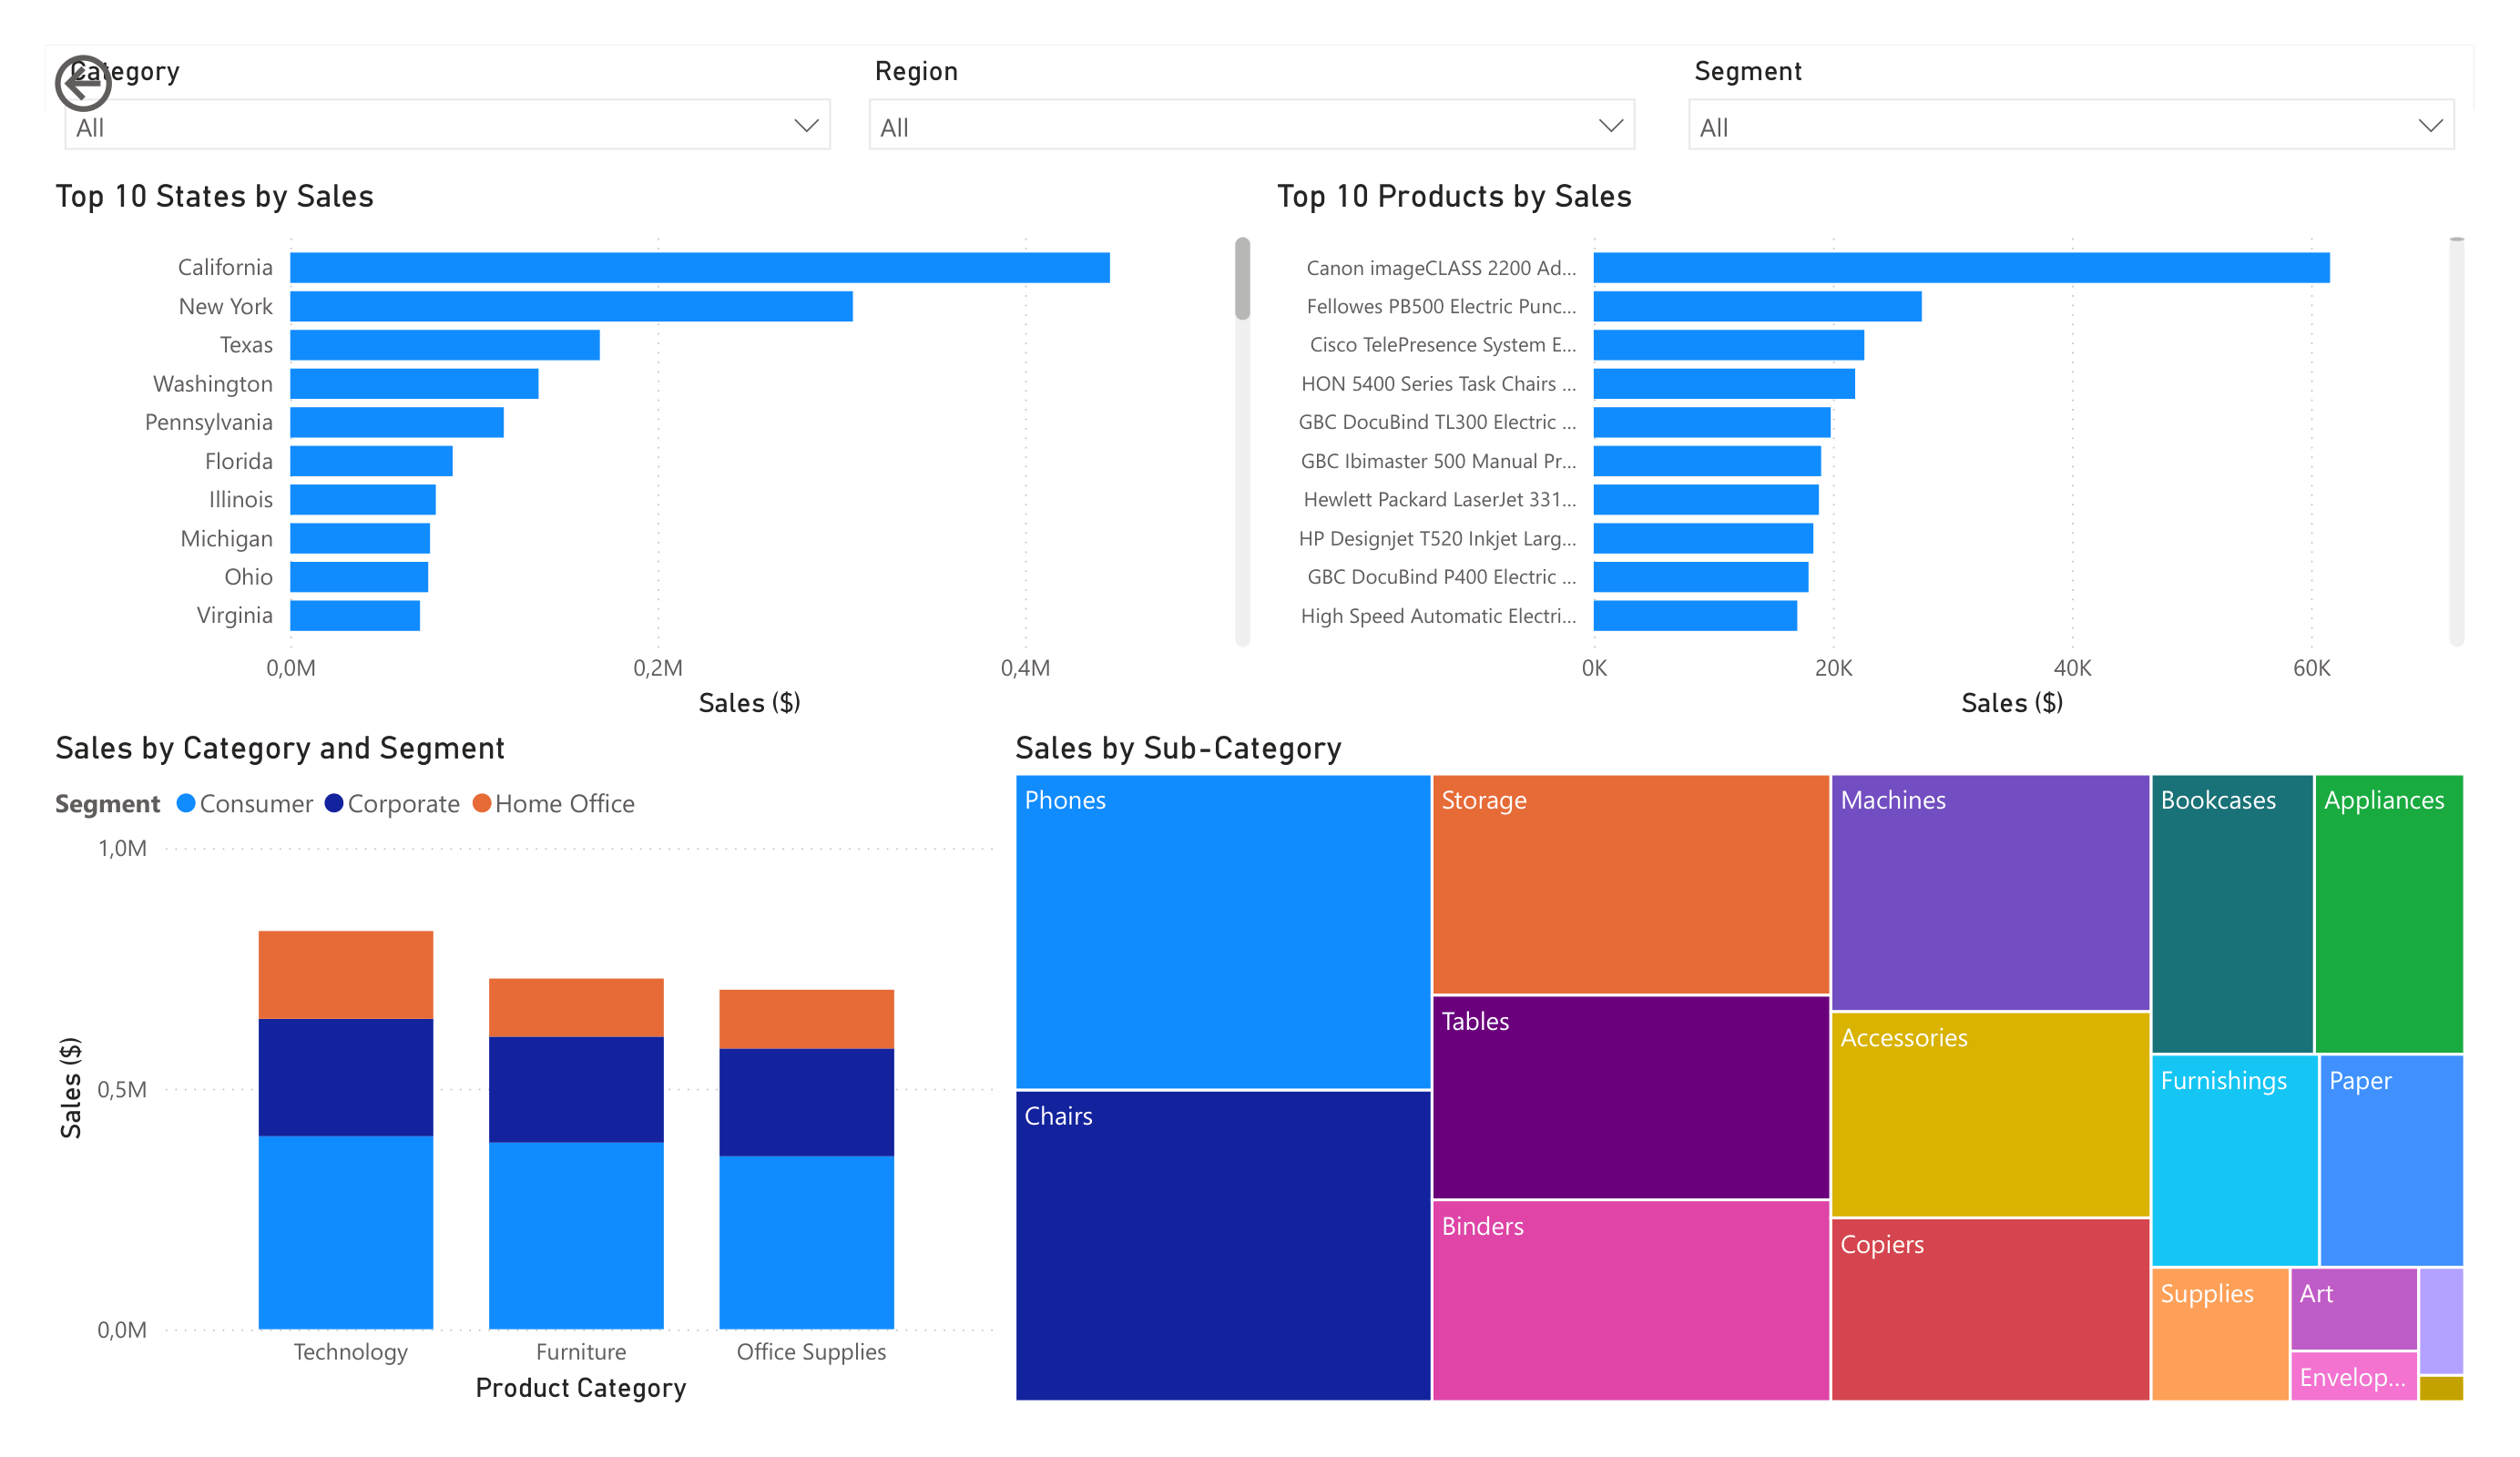

This screenshot's page, from the dashboard's own definition file:
{"tool":"powerbi","page":{"name":"Page 2","canvas":[1280,720],"ordinal":1},"visuals":[{"type":"slicer","fields":{"Values":["ventes_clean.Category"]},"box":[0,0,423.8,68.8],"z":0},{"type":"slicer","fields":{"Values":["ventes_clean.Region"]},"box":[423.8,0,423.8,68.8],"z":1000},{"type":"slicer","fields":{"Values":["ventes_clean.Segment"]},"box":[856.2,0,423.8,68.8],"z":2000},{"type":"clusteredBarChart","title":"Top 10 States by Sales","fields":{"Category":["ventes_clean.State"],"Y":["Sum(ventes_clean.Sales)"]},"box":[0,68.8,640,291.2],"z":3000},{"type":"clusteredBarChart","title":"Top 10 Products by Sales","fields":{"Category":["ventes_clean.Product Name"],"Y":["Sum(ventes_clean.Sales)"]},"box":[643.8,68.8,636.2,291.2],"z":4000},{"type":"treemap","title":"Sales by Sub-Category","fields":{"Group":["ventes_clean.Sub-Category"],"Values":["Sum(ventes_clean.Sales)"]},"box":[506.2,360,773.8,360],"z":5000},{"type":"actionButton","box":[0,0,100,40],"z":6000},{"type":"columnChart","title":"Sales by Category and Segment","fields":{"Category":["ventes_clean.Category"],"Series":["ventes_clean.Segment"],"Y":["Sum(ventes_clean.Sales)"]},"box":[0,360,506.2,360],"z":7000}]}

Visuals, with their boxes on the page's 1280x720 design canvas (x1, y1, x2, y2). These are canvas units, not pixel positions in the 2520x1457 screenshot, which may show the page scaled, cropped or inside an application window:
slicer - ventes_clean.Category: 0:0:424:69
slicer - ventes_clean.Region: 424:0:848:69
slicer - ventes_clean.Segment: 856:0:1280:69
"Top 10 States by Sales" clusteredBarChart: 0:69:640:360
"Top 10 Products by Sales" clusteredBarChart: 644:69:1280:360
"Sales by Sub-Category" treemap: 506:360:1280:720
actionButton: 0:0:100:40
"Sales by Category and Segment" columnChart: 0:360:506:720
